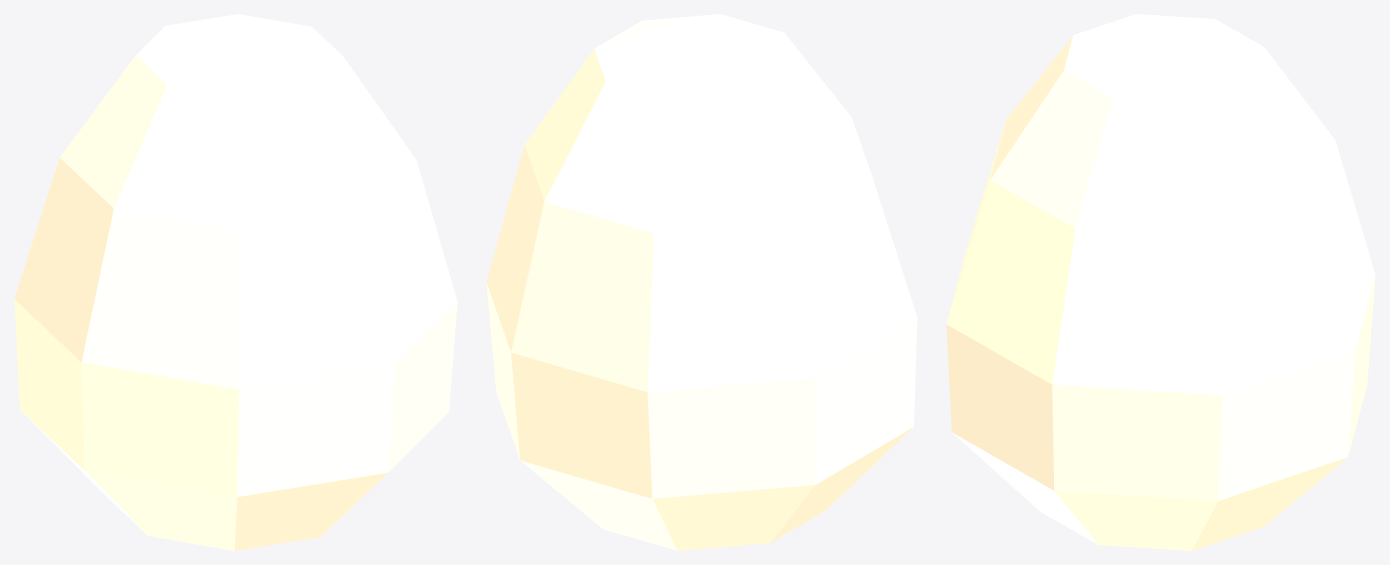
File: Egg.glb
3 views of the same model, side by side, from view 1: azimuth 30°, elevation 25°; view 2: azimuth 150°, elevation 25°; view 3: azimuth 270°, elevation 25° (orthographic).
Visible parts, largest first — view 1: node_egg-chicken_(5)_-256036_1; view 2: node_egg-chicken_(5)_-256036_1; view 3: node_egg-chicken_(5)_-256036_1.
Boxes of the visible parts, box(x1,y1,x2,y2) form: node_egg-chicken_(5)_-256036_1: box(14, 14, 457, 550); node_egg-chicken_(5)_-256036_1: box(486, 14, 917, 550); node_egg-chicken_(5)_-256036_1: box(946, 14, 1375, 550).
Size of the model in its own units: 0.3919 by 0.5172 by 0.392.
